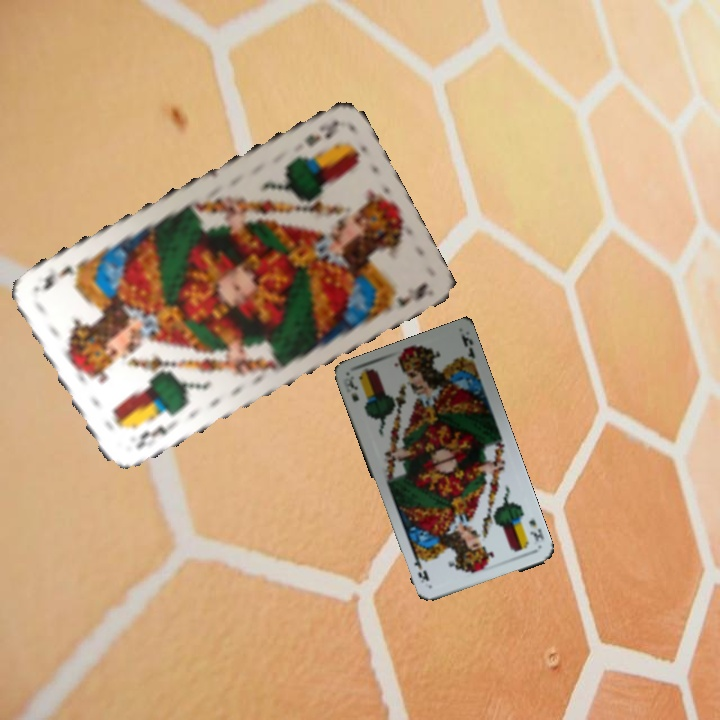EK: (132, 419, 173, 452), (301, 117, 341, 150), (525, 515, 547, 544), (340, 375, 361, 404)
